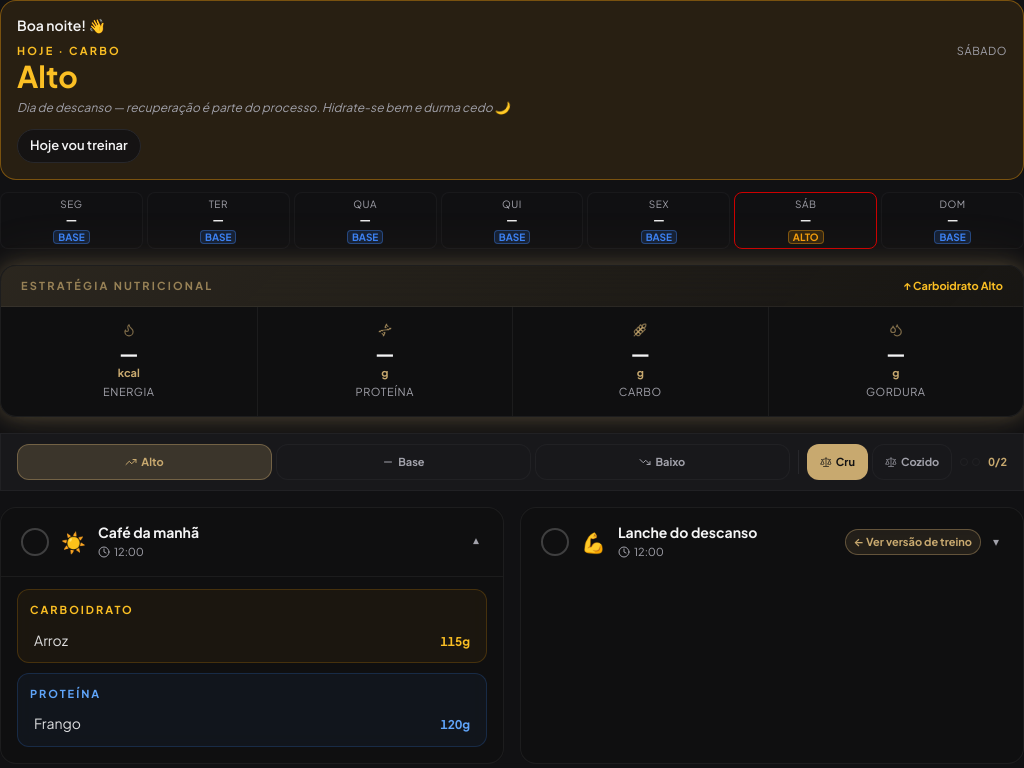
Test case: Dieta — 'Hoje não vou treinar' › dia de descanso: 'Hoje vou treinar' troca só as refeições, carbo continua
Expected: the text "Lanche do descanso" is shown, [618,524,757,542]
Click the button "Hoje vou treinar".
click(79, 146)  # box [17,129,141,162]
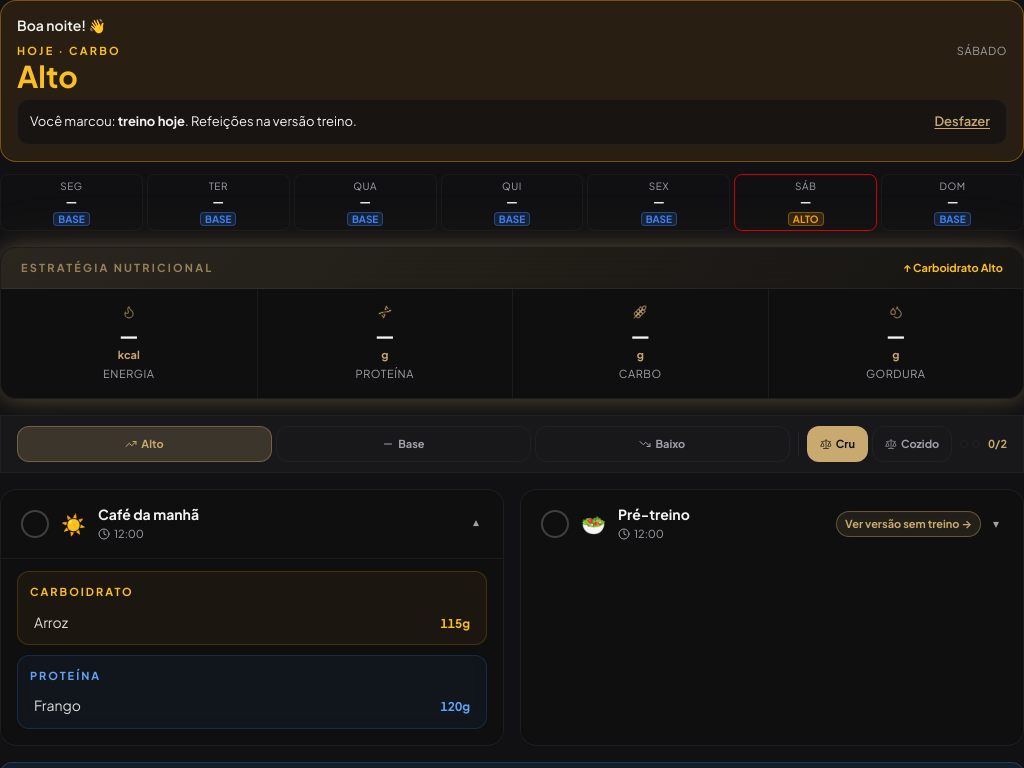
Expected: the text "Alto" below "Hoje · Carbo" is shown, [17,57,78,95]
Expected: the text "Pré-treino" is shown, [618,506,690,524]
Expected: the button "Lanche do descanso" is gone
